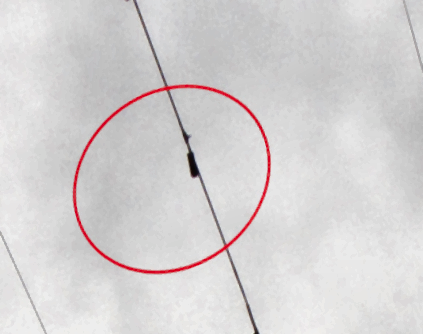damper_defect: (179, 123, 200, 178)
